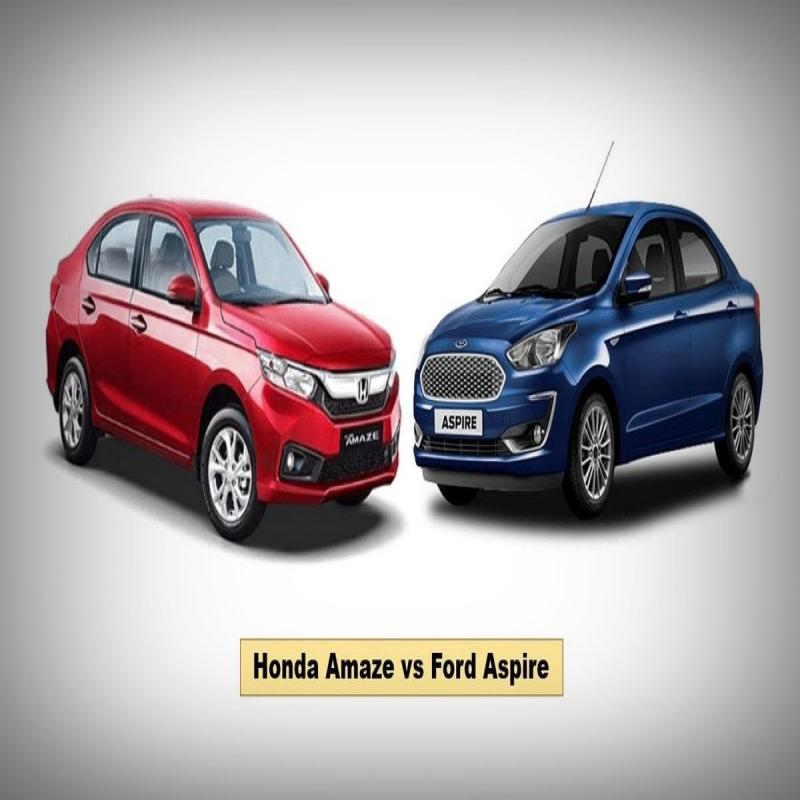car: (17, 175, 408, 503), (404, 168, 762, 504)
